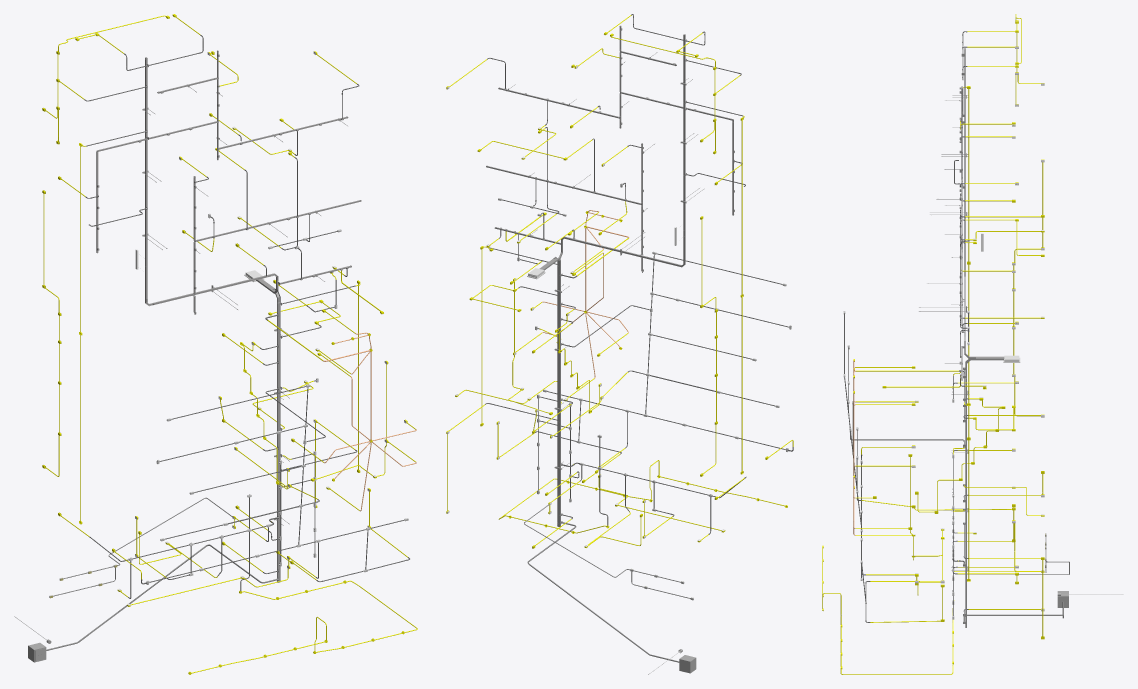
The model's file is projeto-eletrico.glb.
3 renders of one model, left to right at view 1: azimuth 30°, elevation 25°; view 2: azimuth 150°, elevation 25°; view 3: azimuth 270°, elevation 25°, orthographic. The views are drawn at different scales.
Bounding box in the file's own units: 9.28 × 20.16 × 9.34.
